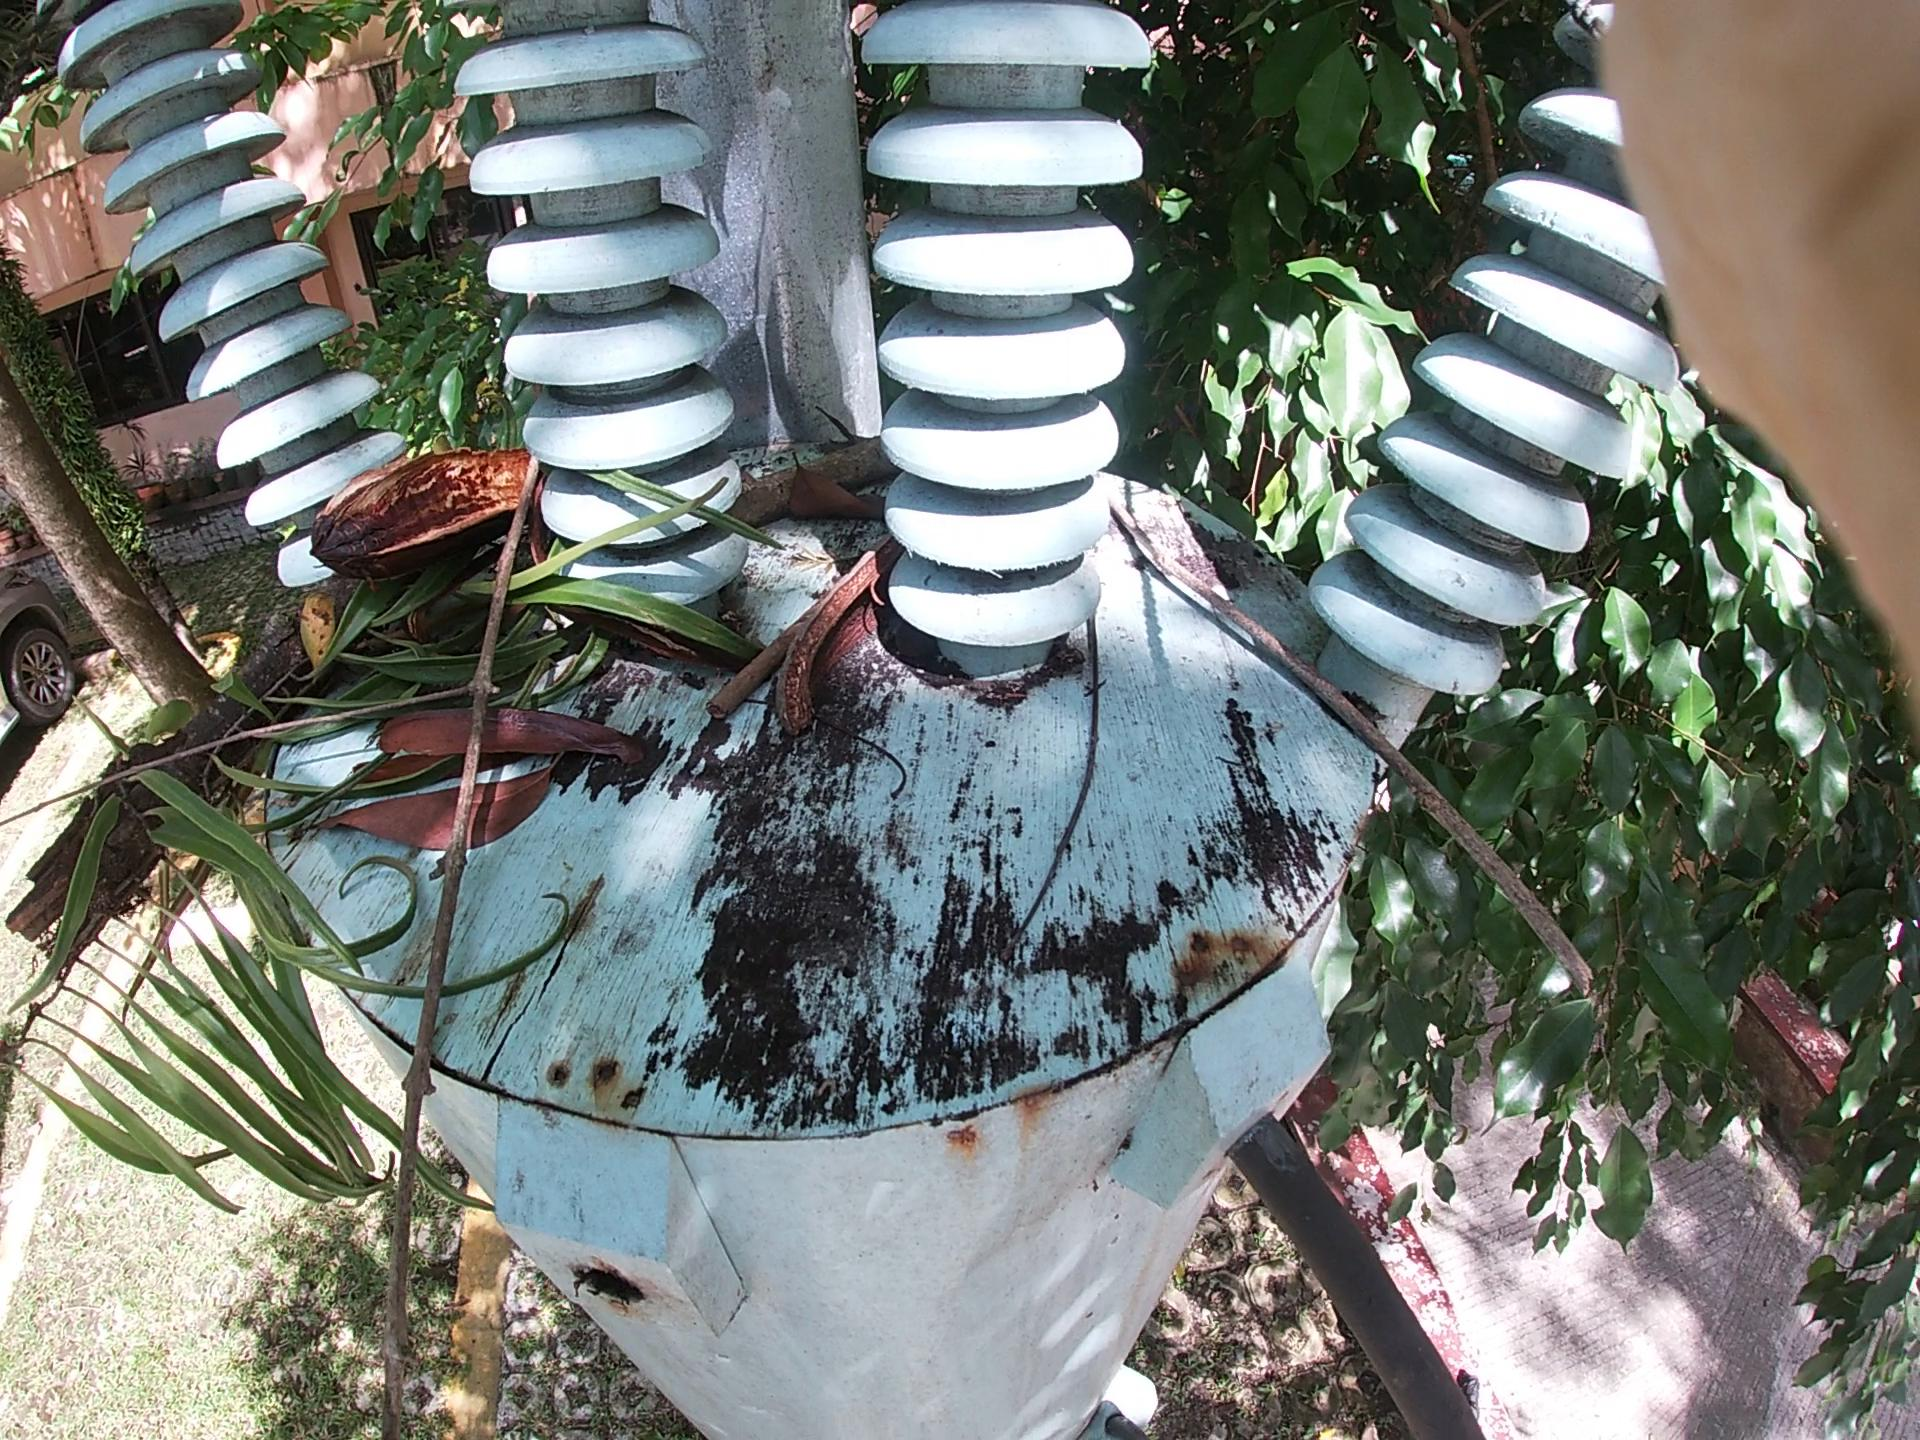branch with leaves: (633, 502, 993, 777)
leaf: (396, 685, 705, 923), (783, 389, 878, 531)
mahogany fruit: (792, 457, 943, 756), (287, 408, 491, 594)
tree branch: (1085, 507, 1663, 1153), (121, 522, 614, 920), (708, 430, 906, 681), (1090, 460, 1143, 948)
